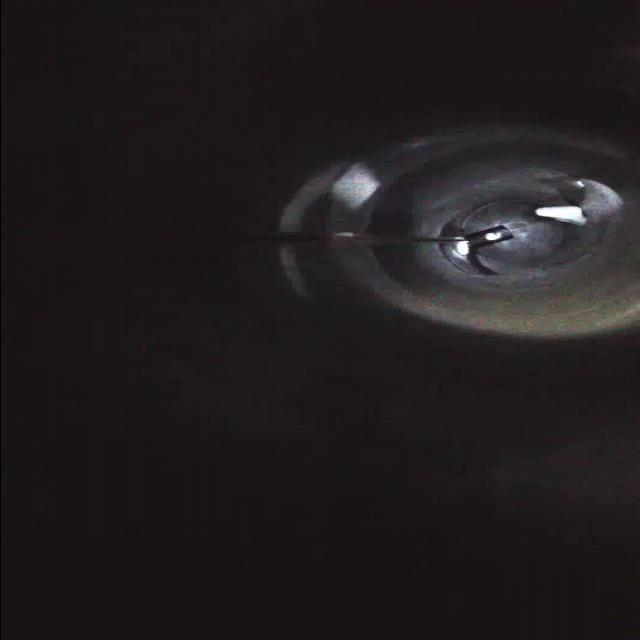impurity: (528, 202, 594, 226)
